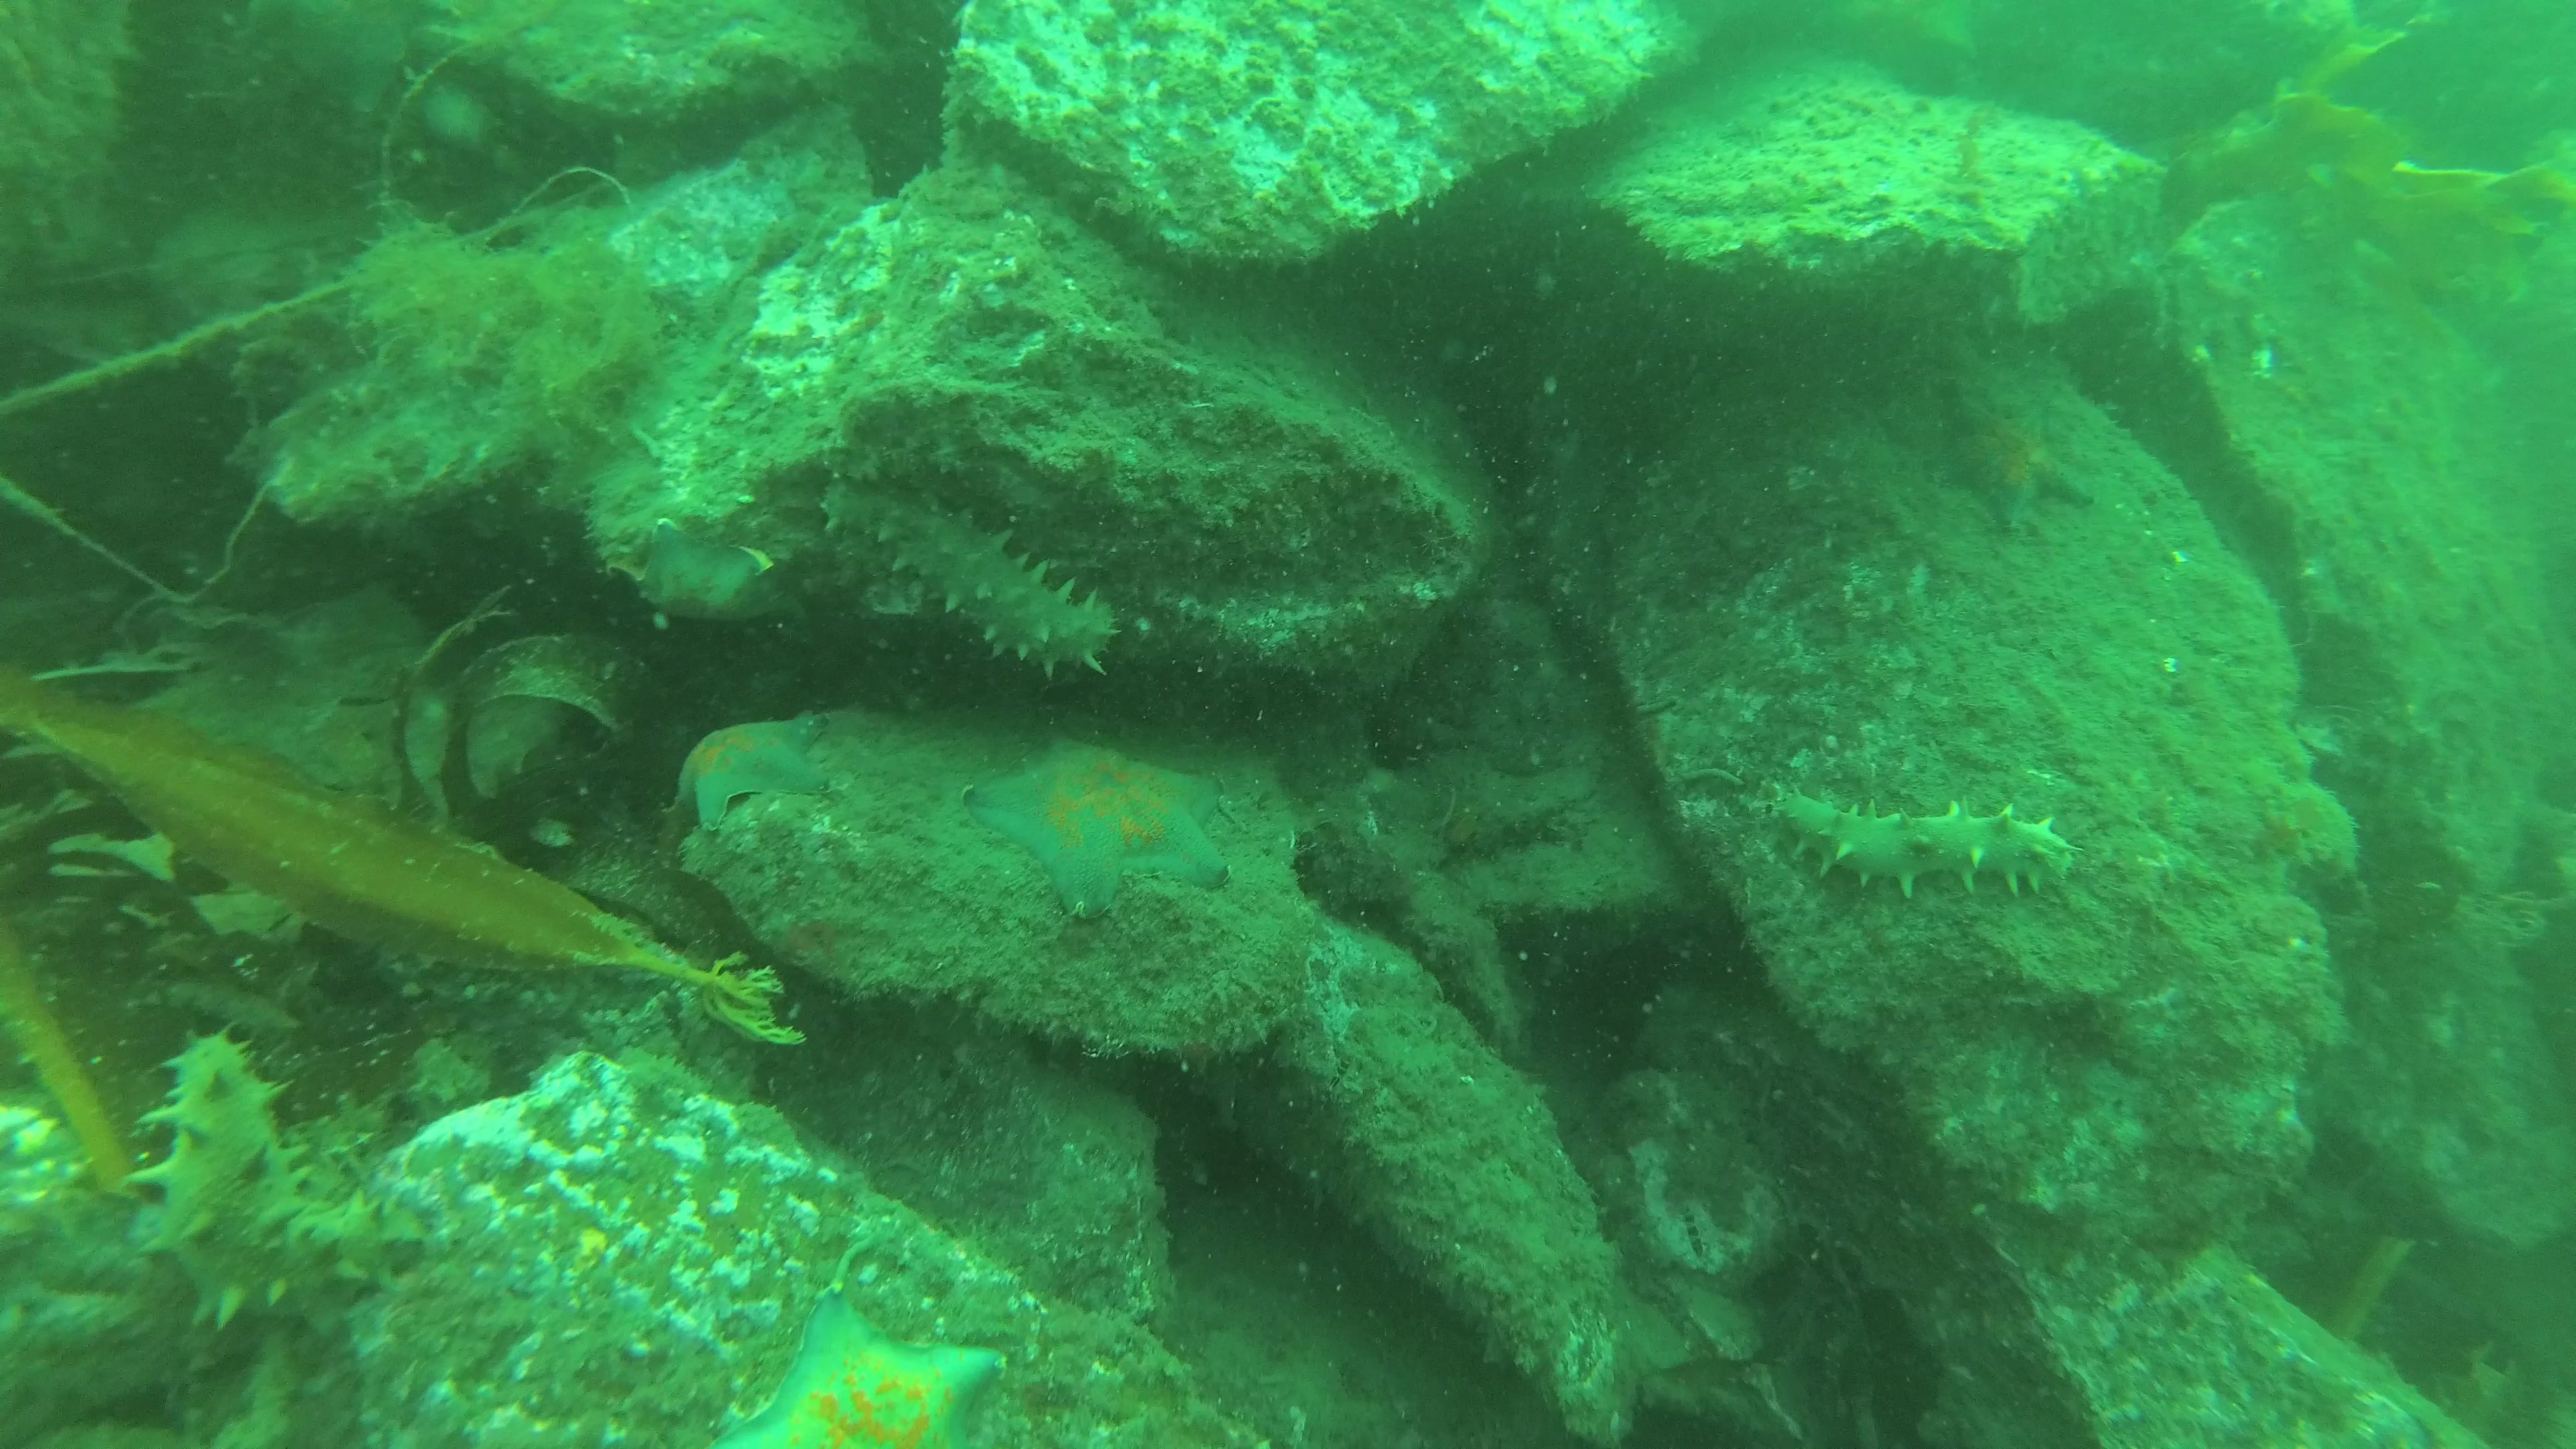holothurian: (147, 1024, 416, 1330), (807, 478, 1125, 681), (1757, 780, 2084, 915)
starfish: (936, 747, 1235, 929), (694, 1288, 1017, 1449), (610, 495, 782, 635), (1943, 423, 2098, 540), (674, 720, 844, 824)
